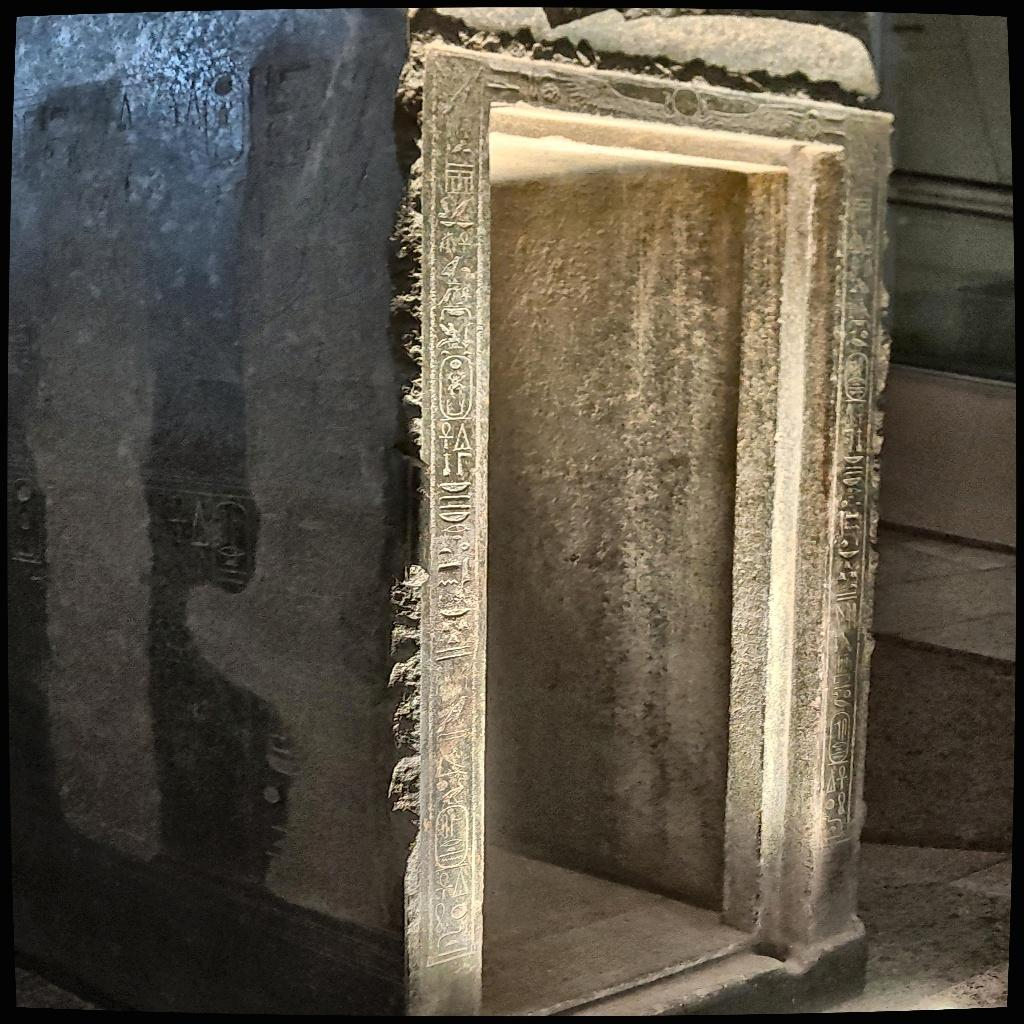Naos of Senwosert I: (8, 8, 888, 1008)
